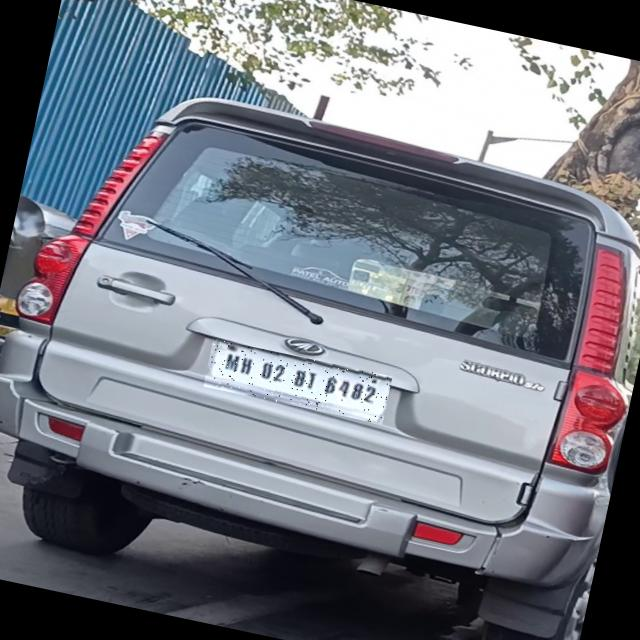Plate: (204, 339, 393, 425)
